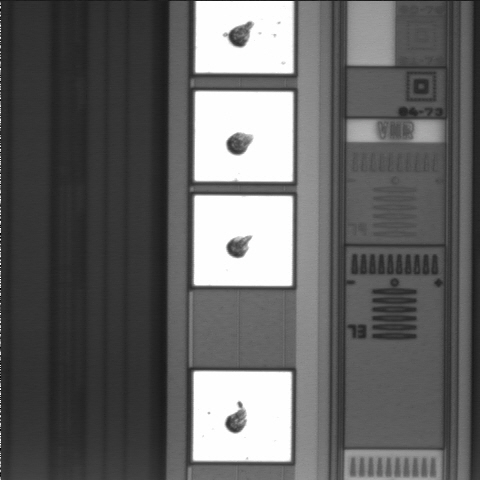pad: (194, 91, 293, 182), (194, 195, 293, 286), (193, 371, 292, 461)
